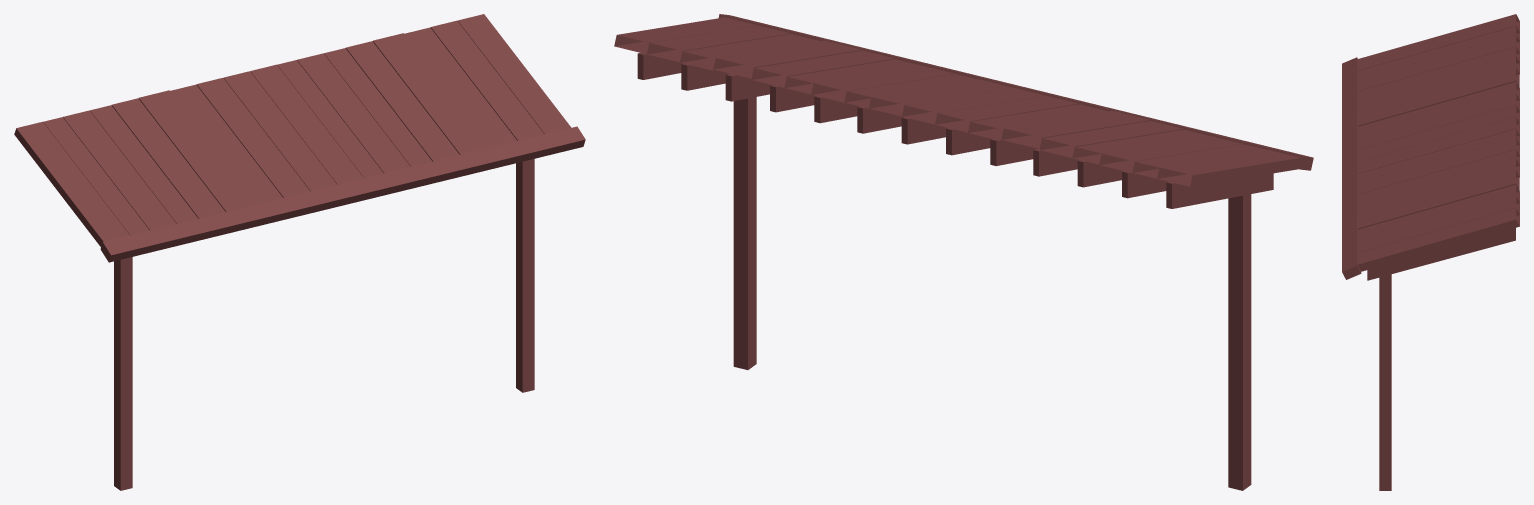
The model's file is SM_storefront_traditional_02.fbx.
3 renders of one model, left to right at view 1: azimuth 30°, elevation 25°; view 2: azimuth 150°, elevation 25°; view 3: azimuth 270°, elevation 25°, orthographic. The views are drawn at different scales.
Visible parts, largest first — view 1: Object1284832; view 2: Object1284832; view 3: Object1284832.
Boxes of the visible parts, box(x1,y1,x2,y2) form: Object1284832: box(14, 14, 585, 490); Object1284832: box(614, 14, 1313, 490); Object1284832: box(1342, 14, 1519, 490).
Bounding box in the file's own units: 220 × 140 × 79.45.
